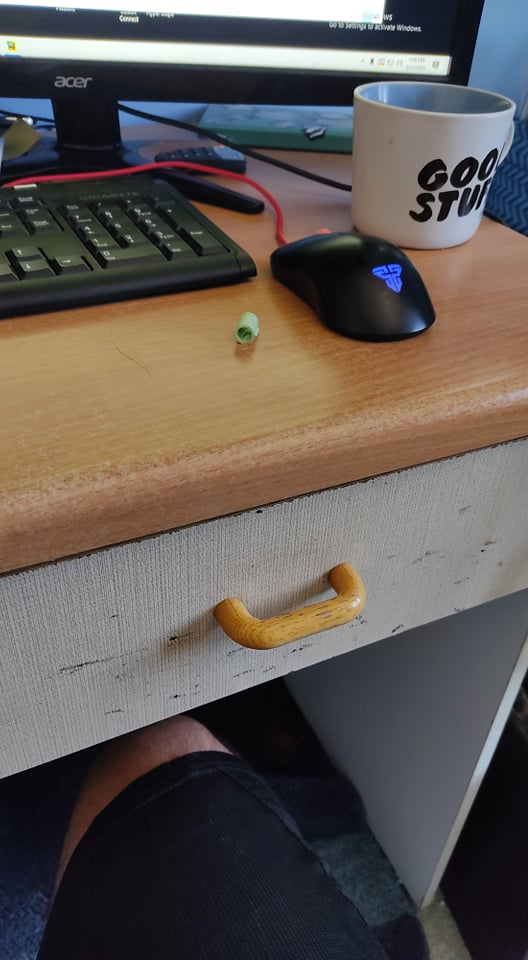green_bucking: (225, 297, 263, 355)
